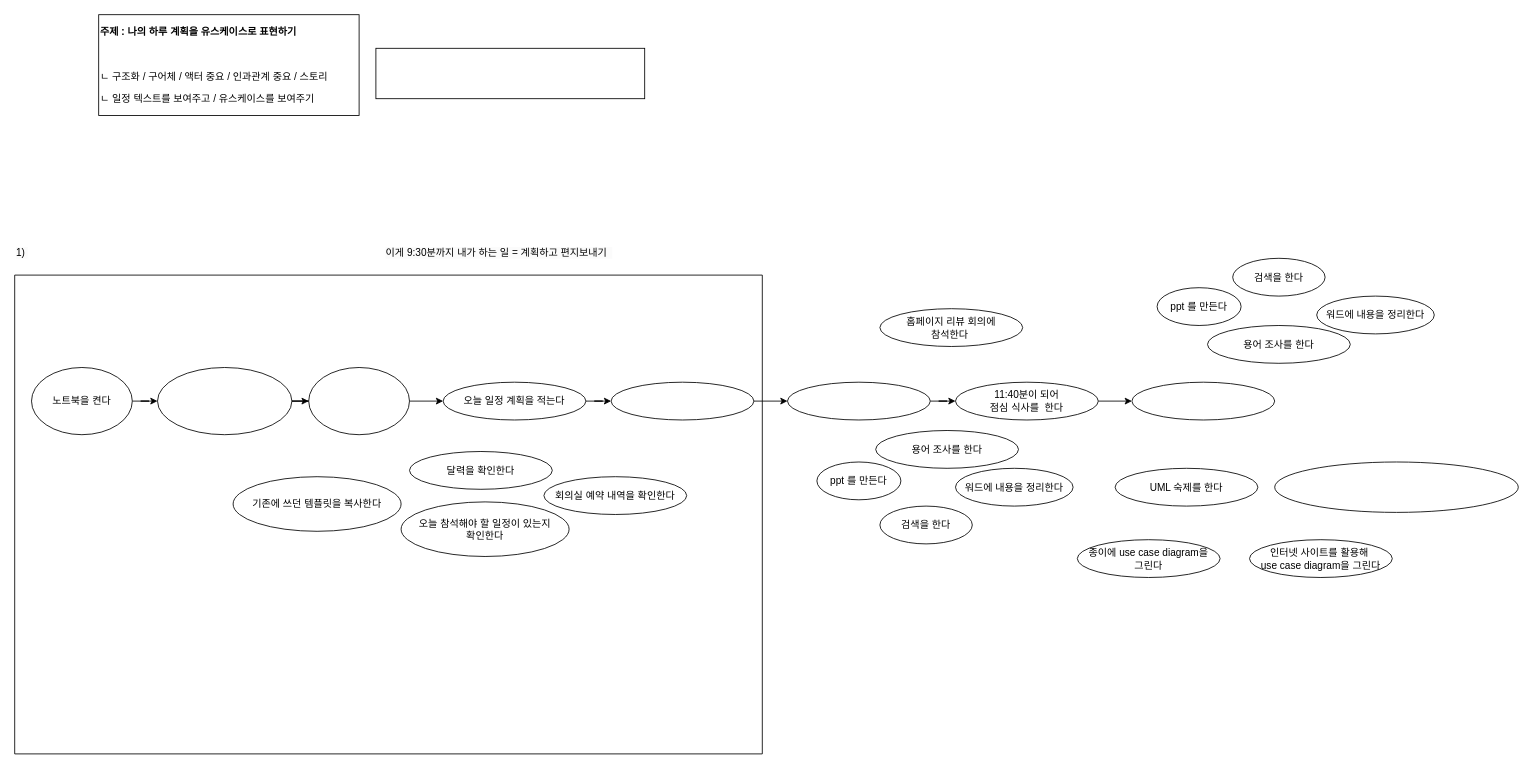
The diagram is 1533 pixels wide and 769 high, and some of its shapes have lost their labels. The centre of each missing label's shape, as x and y in pixels:
"메신저에서 받은 편지함을 열어 새 메일이 있는 지 확인한다" goes at point 224,401.
"메일을 보낸다" goes at point 682,400.
"생각을 하고 -> 계획을 짠다 -> 실행한다 근데 내가 짠 계획끼리 인과관계가 있을려면 ?" goes at point 510,73.
"오늘 일정 중 못한 것과 내일 일정을 체크하고 일을 마무리한다." goes at point 1396,486.
"오전 일정 계획을 실행한다" goes at point 858,400.
"오후 일정 계획을 실행한다" goes at point 1203,400.
"편지쓰기를 클릭한다" goes at point 359,401.
